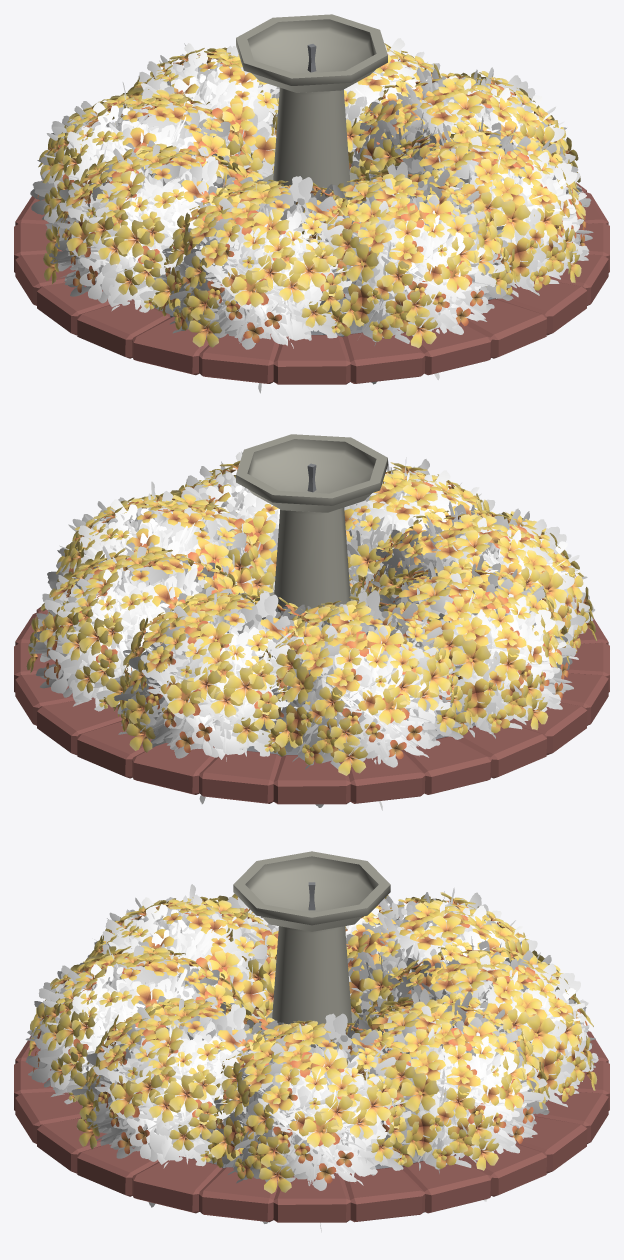
File: flowerbed.fbx
The picture shows the model from 3 angles, top to bottom: view 1: azimuth 30°, elevation 25°; view 2: azimuth 150°, elevation 25°; view 3: azimuth 270°, elevation 25°; orthographic projection.
Parts seen in each view (by area): view 1: flowers_bushes, regular_bushes, flwerbed_structure; view 2: flowers_bushes, regular_bushes, flwerbed_structure; view 3: flowers_bushes, regular_bushes, flwerbed_structure.
Boxes of the visible parts, x1=… form: flowers_bushes: x1=37, y1=43, x2=586, y2=348; regular_bushes: x1=30, y1=35, x2=593, y2=393; flwerbed_structure: x1=14, y1=14, x2=609, y2=384; flowers_bushes: x1=26, y1=461, x2=596, y2=775; regular_bushes: x1=28, y1=451, x2=594, y2=810; flwerbed_structure: x1=14, y1=434, x2=609, y2=804; flowers_bushes: x1=28, y1=892, x2=597, y2=1193; regular_bushes: x1=25, y1=884, x2=598, y2=1232; flwerbed_structure: x1=14, y1=851, x2=609, y2=1222.
Size of the model in its own units: 254 by 128 by 254.
